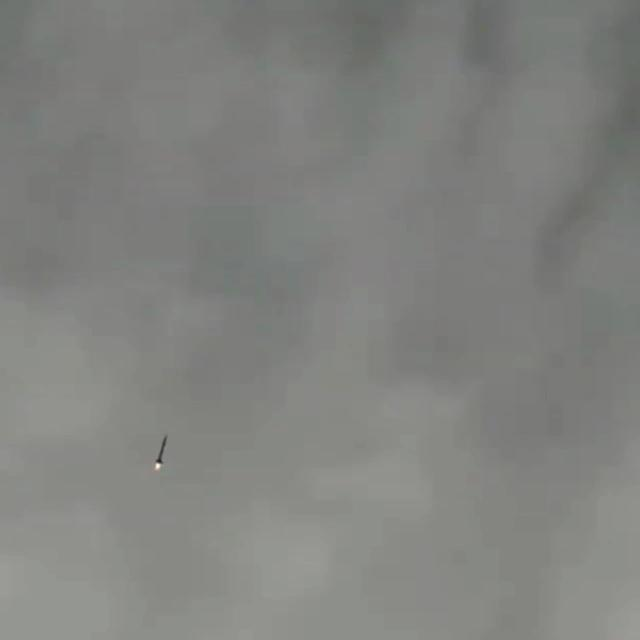rocket: (152, 435, 166, 471)
